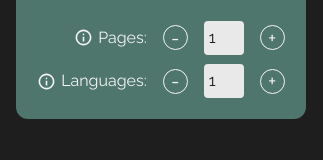
WebFeatures › increases the amount of pages when the corresponding + button is pressed
What coordinates should you click on to do the following:
click the button named "Add page"
I would click on:
 (272, 38)
Its box is [260,25,285,50].
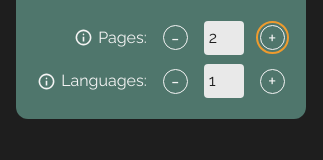
Expected: the number field labelled "pages:" holds "2", [204,21,244,55]
